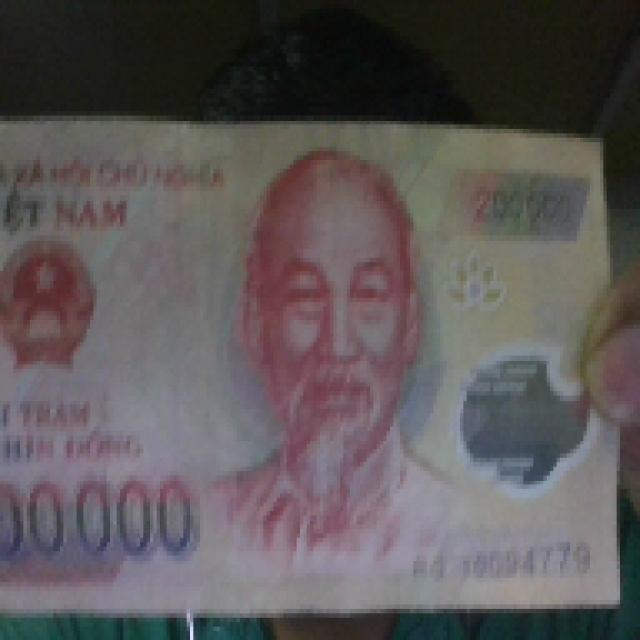200 000 VND: (0, 105, 623, 616)
